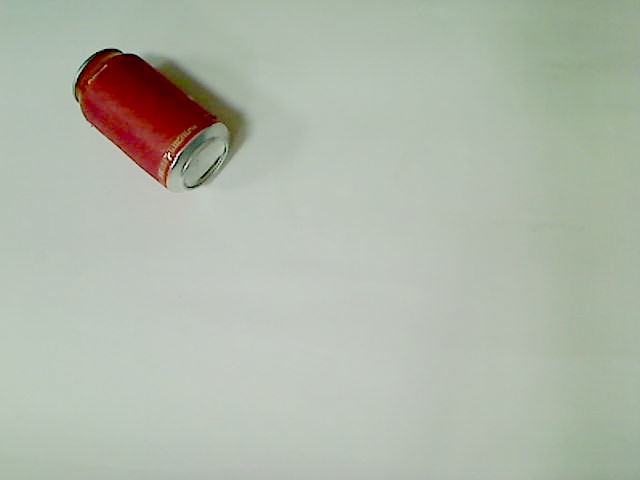can: (69, 45, 232, 199)
